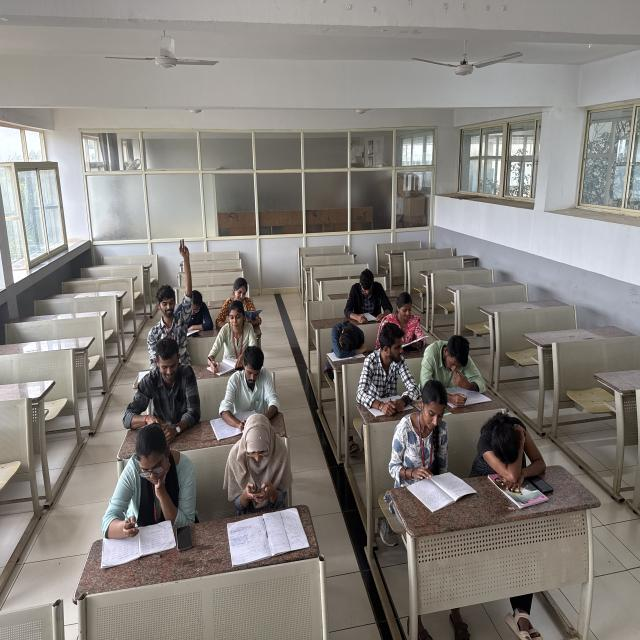Hand Rising: (147, 235, 206, 361)
Reading: (388, 376, 464, 504), (211, 342, 283, 436), (376, 291, 429, 349), (217, 274, 268, 326), (346, 269, 394, 324)
Sleeping: (473, 413, 553, 489), (320, 313, 372, 363)
Using Phone: (123, 332, 204, 442), (224, 410, 298, 520)
Writing: (97, 421, 212, 564), (415, 325, 496, 407), (206, 298, 264, 384), (178, 287, 220, 338)
